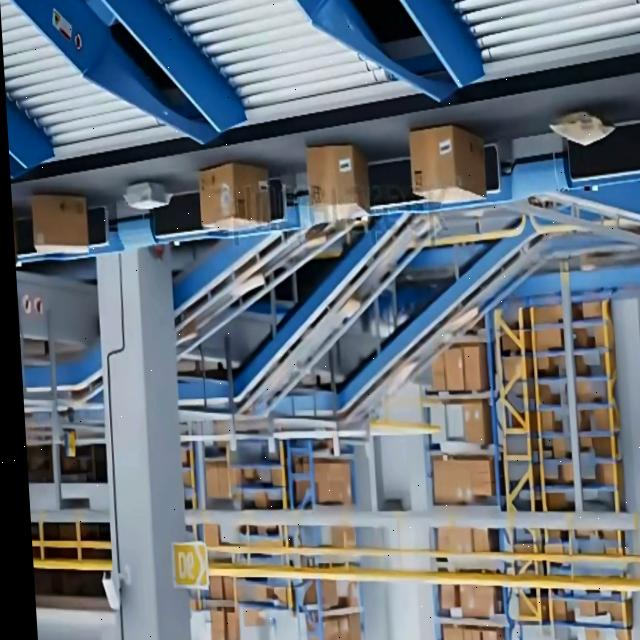product 1: (407, 124, 488, 205), (304, 144, 372, 223), (197, 162, 272, 232)
product 2: (122, 182, 172, 212)
